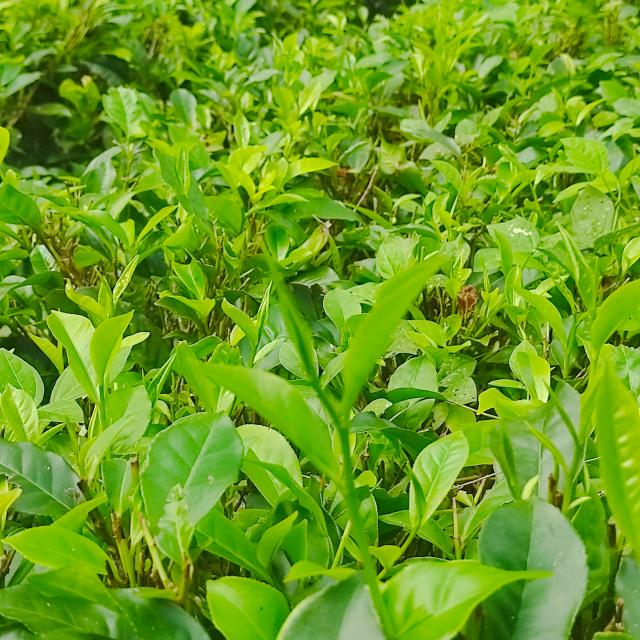unopened_leaf: (251, 233, 327, 383), (536, 375, 587, 452), (520, 413, 569, 475), (403, 460, 427, 518), (587, 250, 603, 324), (168, 157, 186, 191)
